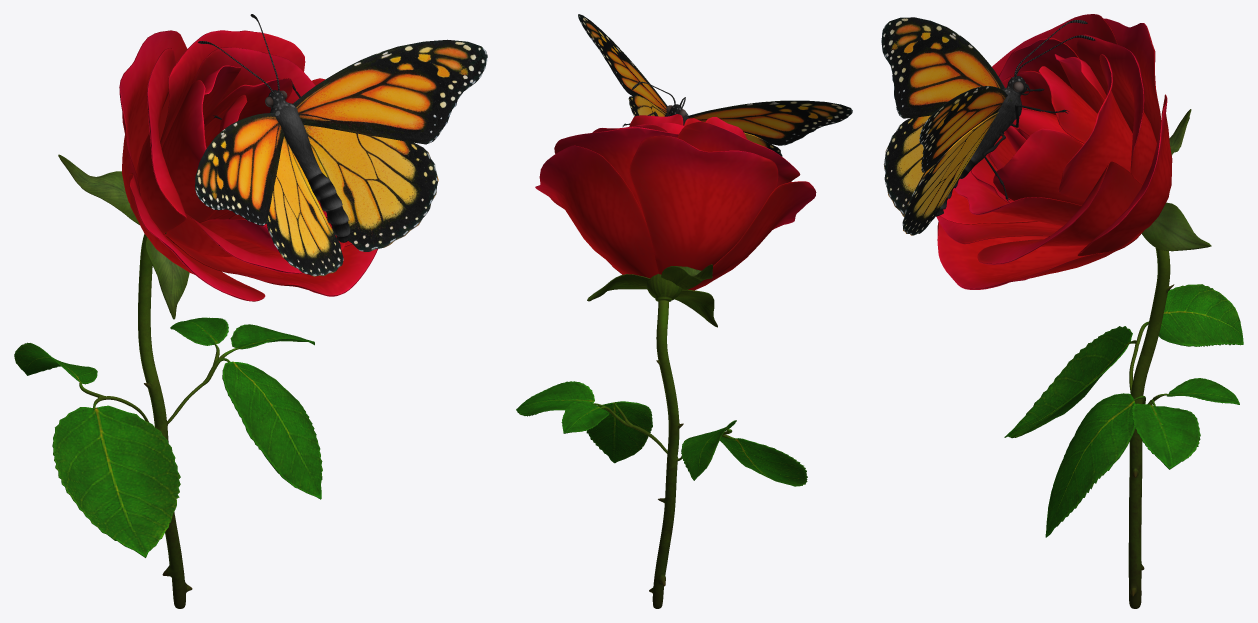
File: twinkle-butterfly-patio_rose-butterfly.glb
3 renders of one model, left to right at view 1: azimuth 30°, elevation 25°; view 2: azimuth 150°, elevation 25°; view 3: azimuth 270°, elevation 25°, orthographic. The views are drawn at different scales.
Visible parts, largest first — view 1: node_id30_1, node_id36_2; view 2: node_id30_1, node_id36_2; view 3: node_id30_1, node_id36_2.
Part boxes in pixels (x1,y1,x2,y2): node_id30_1: [14, 30, 377, 608]; node_id36_2: [195, 14, 487, 276]; node_id30_1: [516, 114, 816, 608]; node_id36_2: [578, 14, 852, 156]; node_id30_1: [936, 14, 1243, 608]; node_id36_2: [881, 17, 1095, 235].
Bounding box in the file's own units: 0.3719 × 0.6084 × 0.3353.
2 materials, 2 textured.
